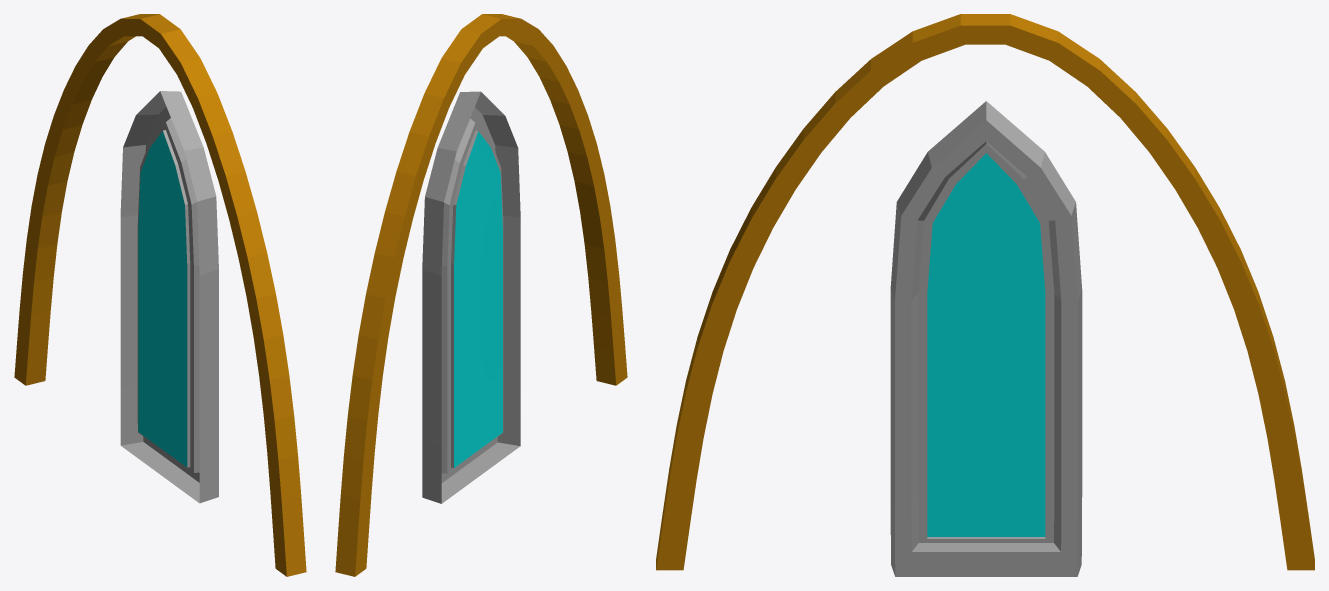
File: Mesh_Decor_Window_a01.fbx
The picture shows the model from 3 angles, left to right: view 1: azimuth 30°, elevation 25°; view 2: azimuth 150°, elevation 25°; view 3: azimuth 270°, elevation 25°; orthographic projection. The views are drawn at different scales.
Visible parts, largest first — view 1: Wall_Decor_Window_a01; view 2: Wall_Decor_Window_a01; view 3: Wall_Decor_Window_a01.
Boxes of the visible parts, <box> form: Wall_Decor_Window_a01: <box>14,14,306,576</box>; Wall_Decor_Window_a01: <box>335,14,627,576</box>; Wall_Decor_Window_a01: <box>656,14,1314,576</box>.
Size of the model in its own units: 1.57 by 21.9 by 24.
